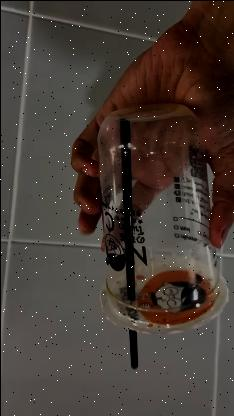Others: (96, 104, 228, 334)
